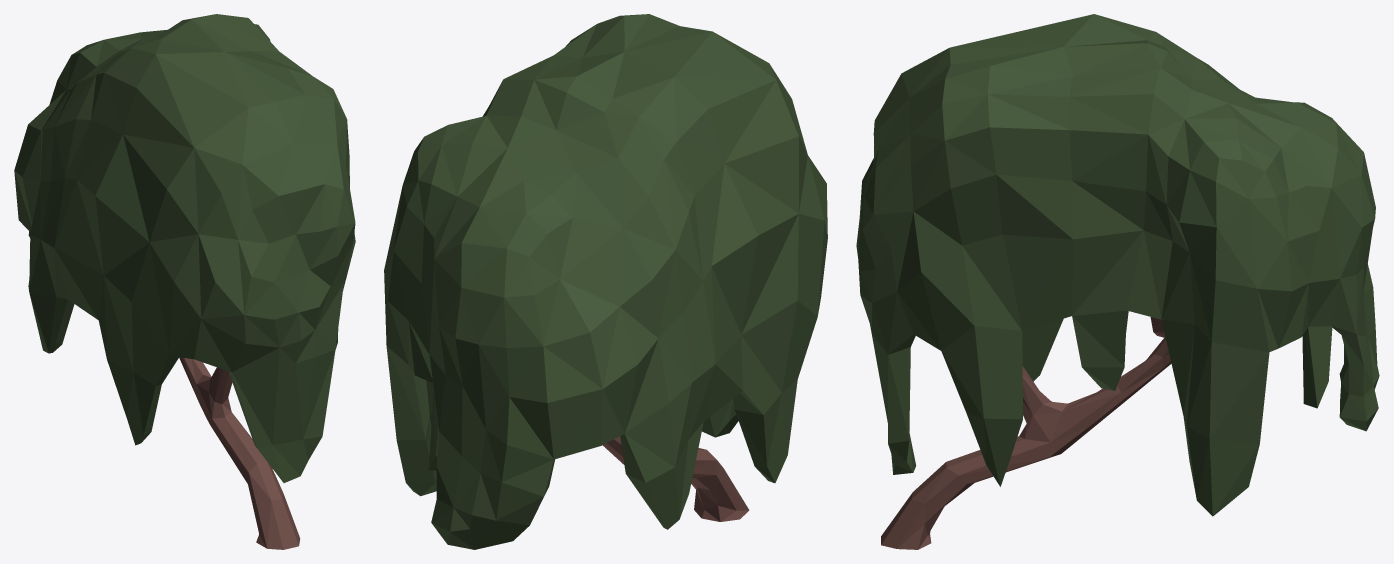
The model's file is Willow_2.lod1.glb.
3 renders of one model, left to right at view 1: azimuth 30°, elevation 25°; view 2: azimuth 150°, elevation 25°; view 3: azimuth 270°, elevation 25°, orthographic. The views are drawn at different scales.
Visible parts, largest first — view 1: Willow_2; view 2: Willow_2; view 3: Willow_2.
Part boxes in pixels (x1,y1,x2,y2): Willow_2: (14,14,355,549); Willow_2: (384,14,827,549); Willow_2: (856,14,1379,549).
Bounding box in the file's own units: 1.95 × 3.32 × 3.11.
